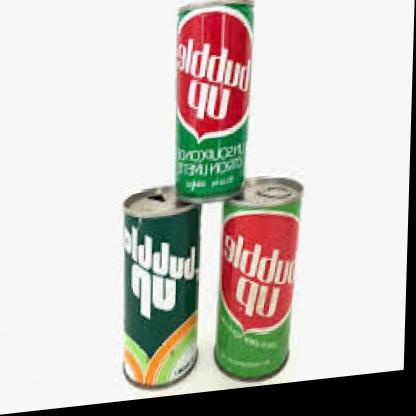trash: (215, 177, 302, 378), (123, 187, 199, 386), (176, 0, 252, 198)
